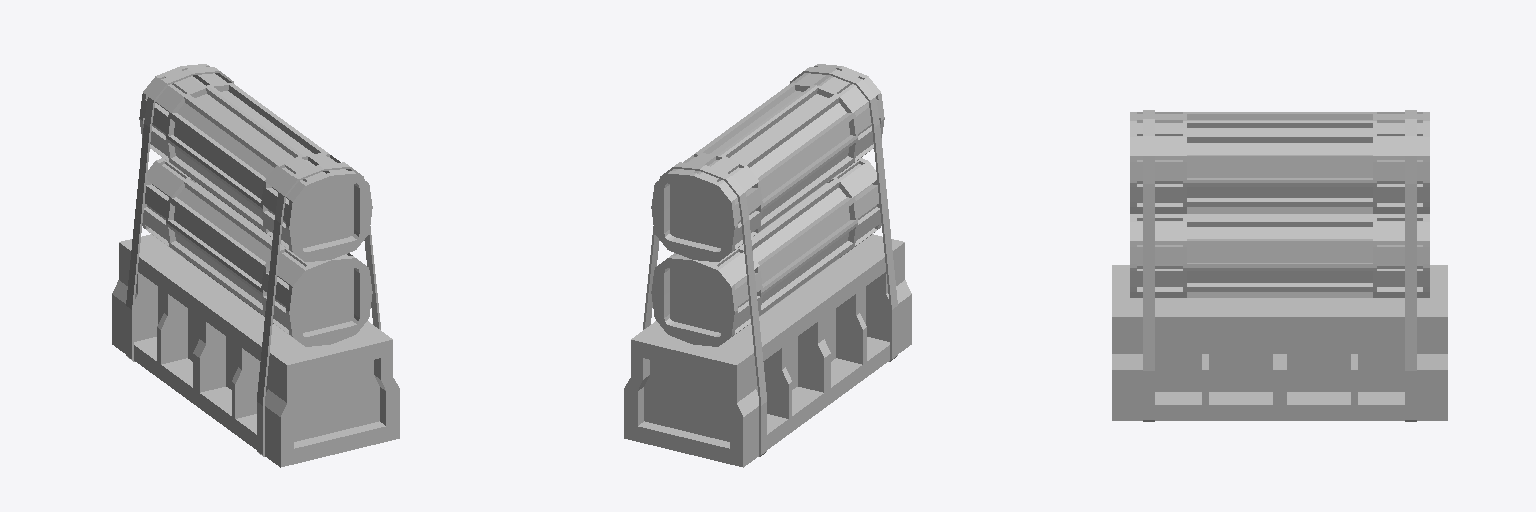
File: StorageCrate01.obj
The picture shows the model from 3 angles: view 1: azimuth 30°, elevation 25°; view 2: azimuth 150°, elevation 25°; view 3: azimuth 270°, elevation 25°; orthographic projection.
Parts seen in each view (by area): view 1: BaseBox_Cube.001, TopContainer02_Cylinder.001, TopContainer01_Cylinder, Straps_Cube.002; view 2: BaseBox_Cube.001, TopContainer02_Cylinder.001, TopContainer01_Cylinder, Straps_Cube.002; view 3: BaseBox_Cube.001, TopContainer02_Cylinder.001, TopContainer01_Cylinder, Straps_Cube.002.
Boxes of the visible parts, x1=… form: BaseBox_Cube.001: x1=112, y1=234, x2=399, y2=467; TopContainer02_Cylinder.001: x1=139, y1=64, x2=372, y2=261; TopContainer01_Cylinder: x1=142, y1=158, x2=372, y2=346; Straps_Cube.002: x1=126, y1=67, x2=380, y2=456; BaseBox_Cube.001: x1=624, y1=234, x2=911, y2=467; TopContainer02_Cylinder.001: x1=651, y1=64, x2=884, y2=261; TopContainer01_Cylinder: x1=651, y1=158, x2=881, y2=346; Straps_Cube.002: x1=643, y1=67, x2=897, y2=456; BaseBox_Cube.001: x1=1112, y1=265, x2=1447, y2=420; TopContainer02_Cylinder.001: x1=1130, y1=112, x2=1429, y2=213; TopContainer01_Cylinder: x1=1130, y1=214, x2=1429, y2=297; Straps_Cube.002: x1=1143, y1=110, x2=1416, y2=421.
Size of the model in its own units: 2.57 by 5.44 by 6.07.